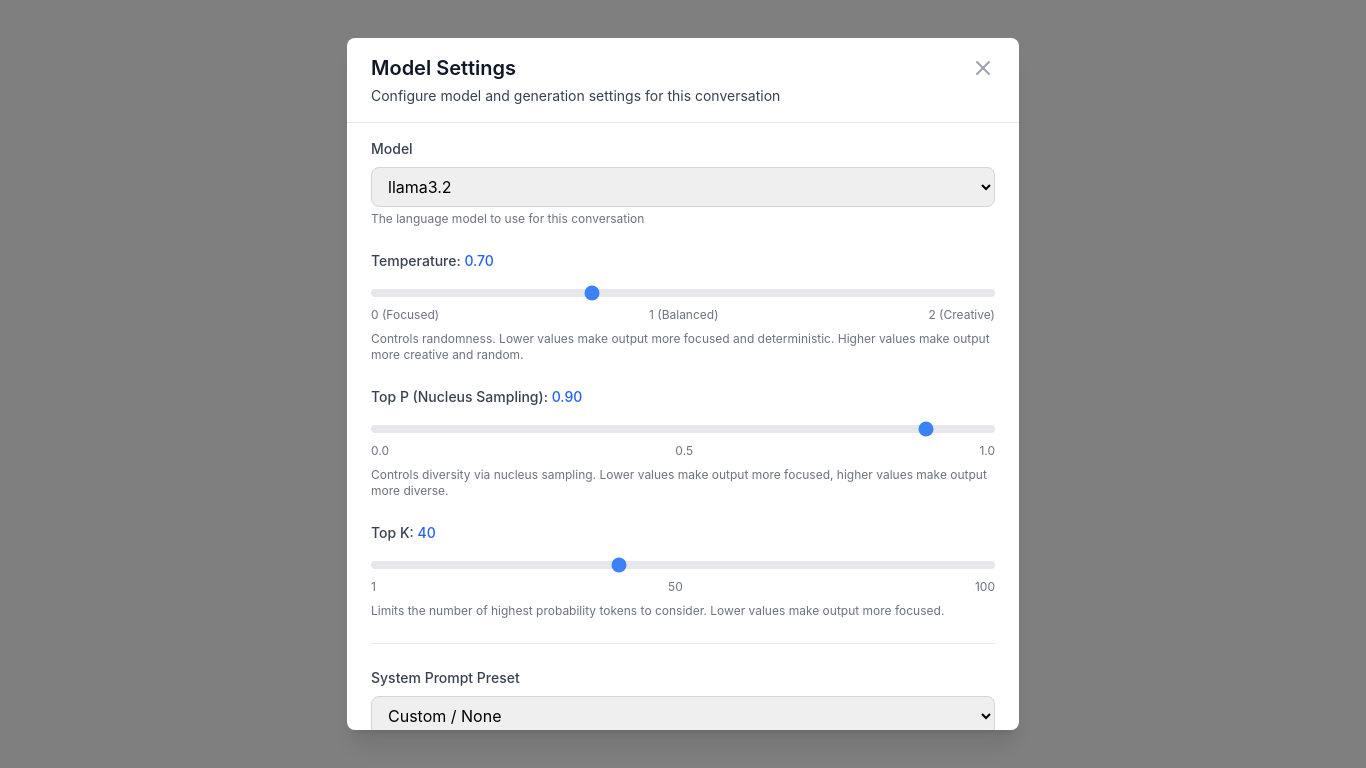
Test: ModelSettings › Temperature Setting › should update temperature on slider change
Set the slider labelled "Temperature: 0.70" to "1.5" at x=835, y=293, box x1=371 y1=289 x2=995 y2=297
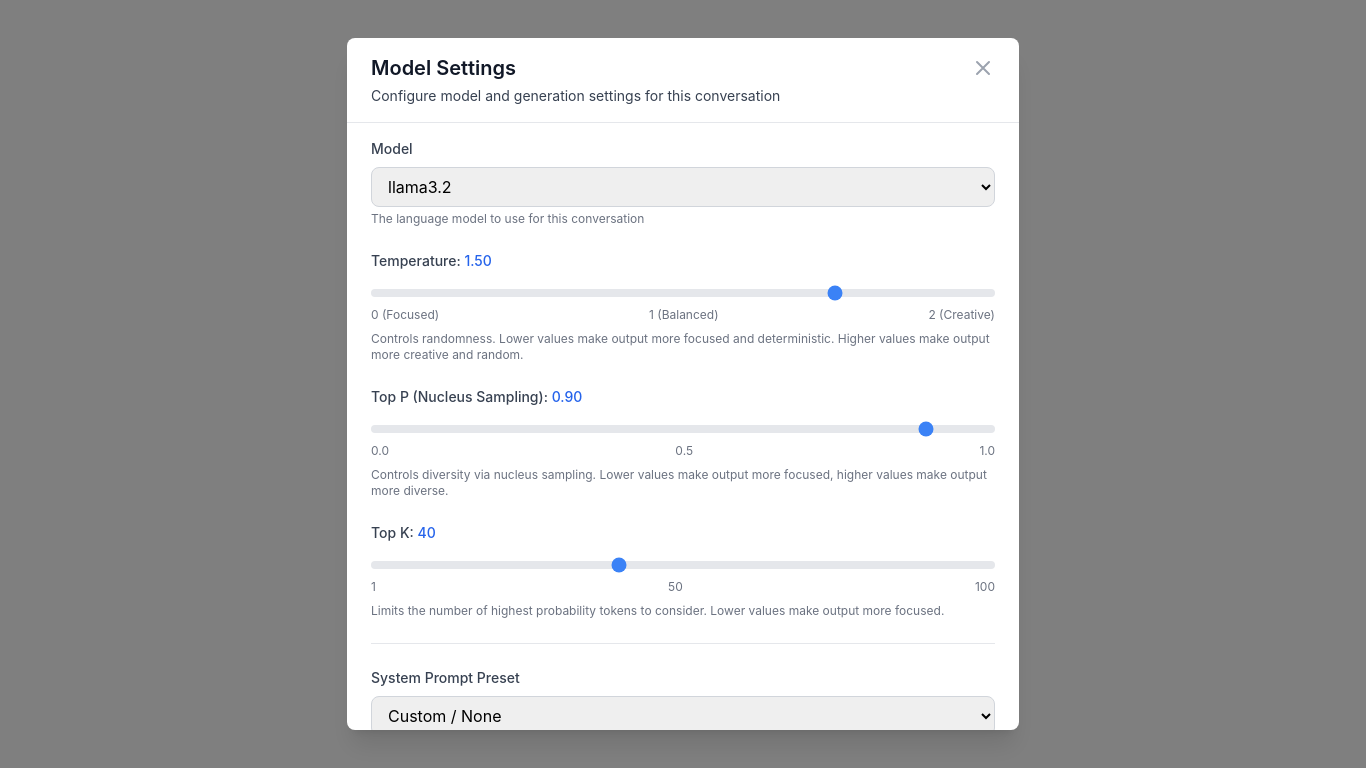
Expected: the text "1.50" is shown, x1=464 y1=252 x2=492 y2=269
